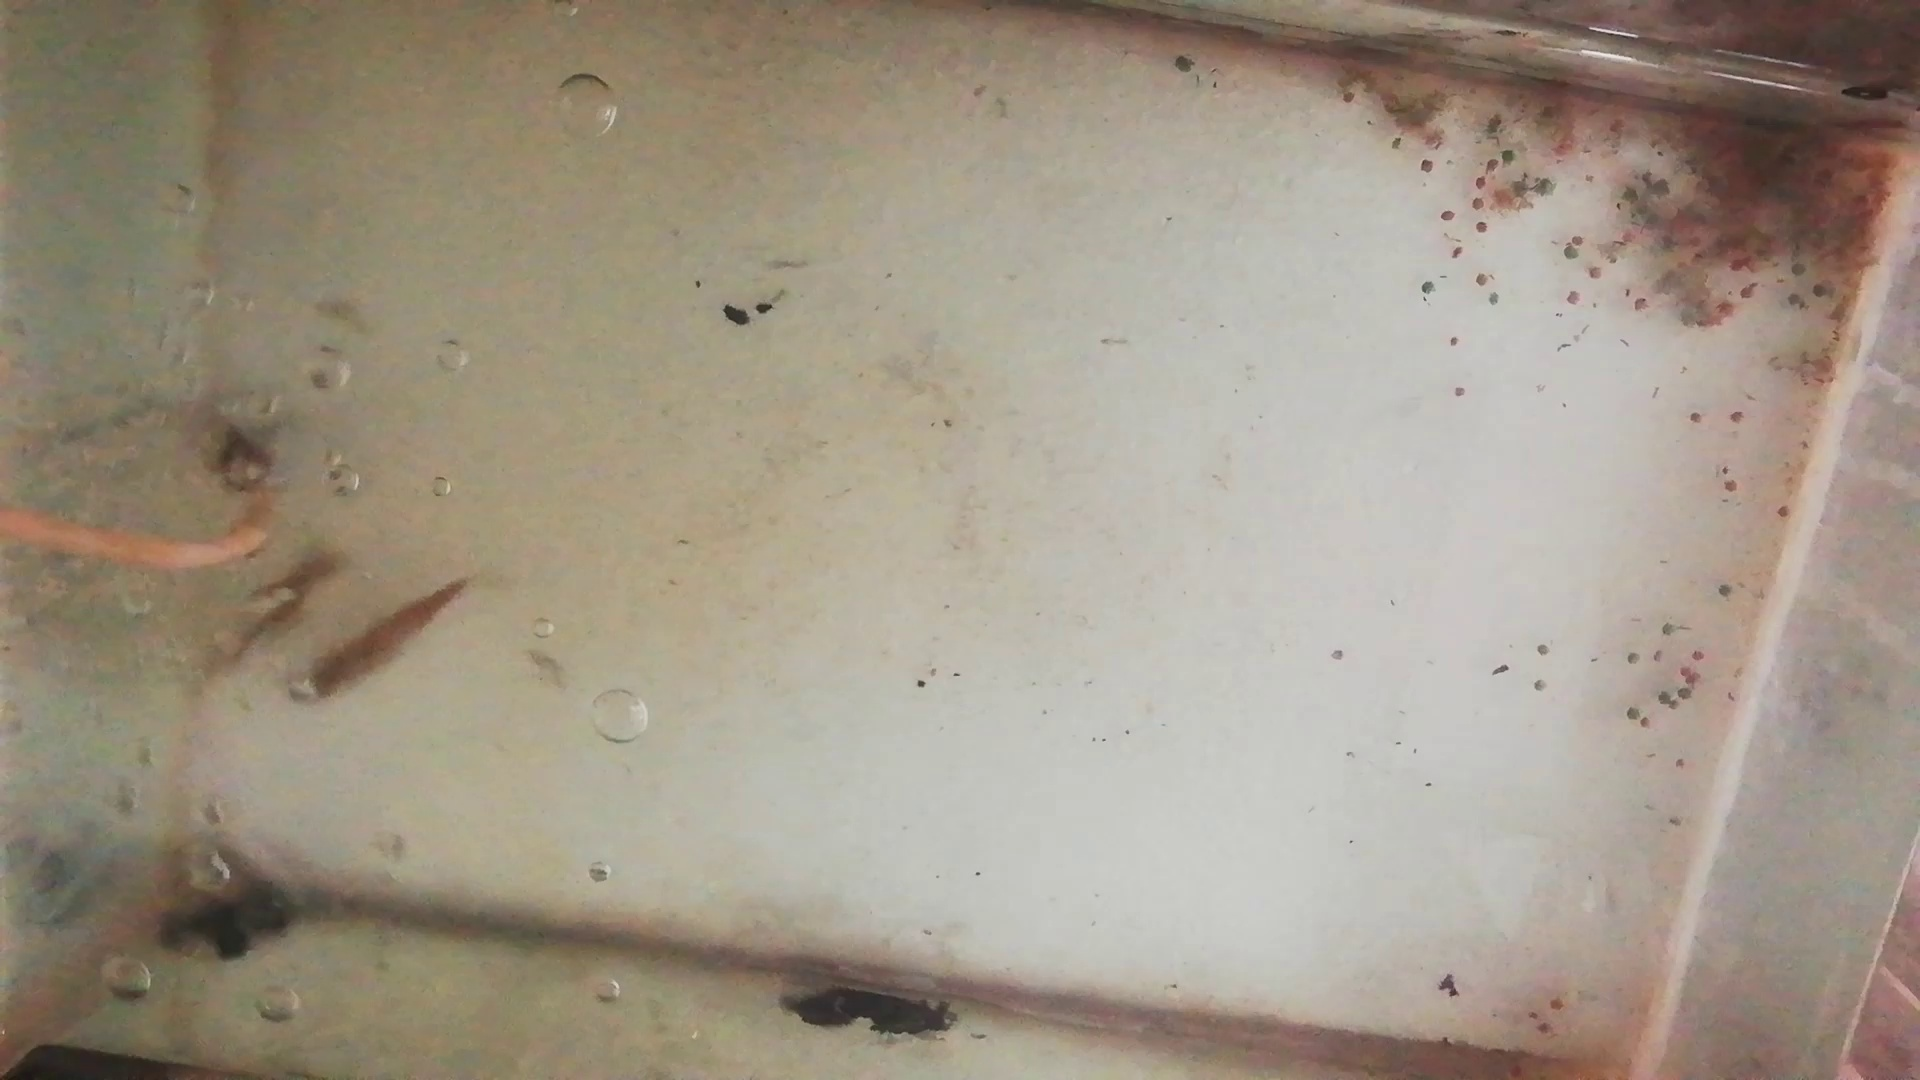fish: (297, 583, 465, 707), (208, 550, 345, 663)
